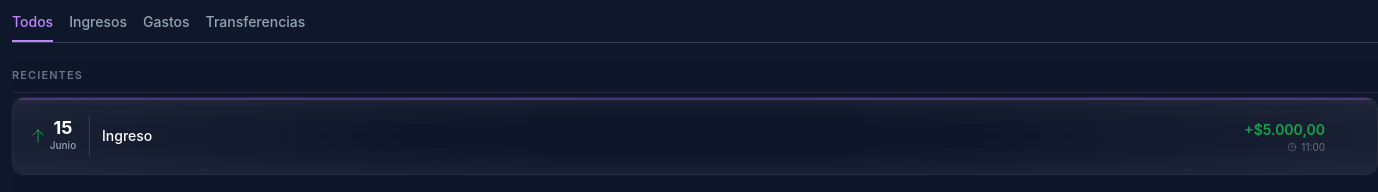
Test: PocketHistoryTimeline › shows empty state when filter has no matching items
Click the button "Gastos" at (166, 27), box [143,12,190,42]
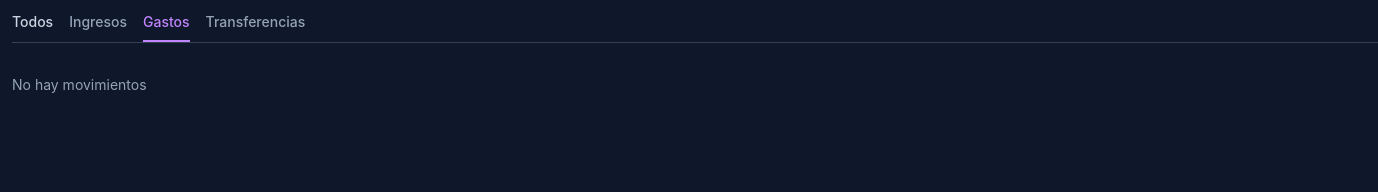
Check: the text "No hay movimientos" is shown, box [12,76,147,93]
